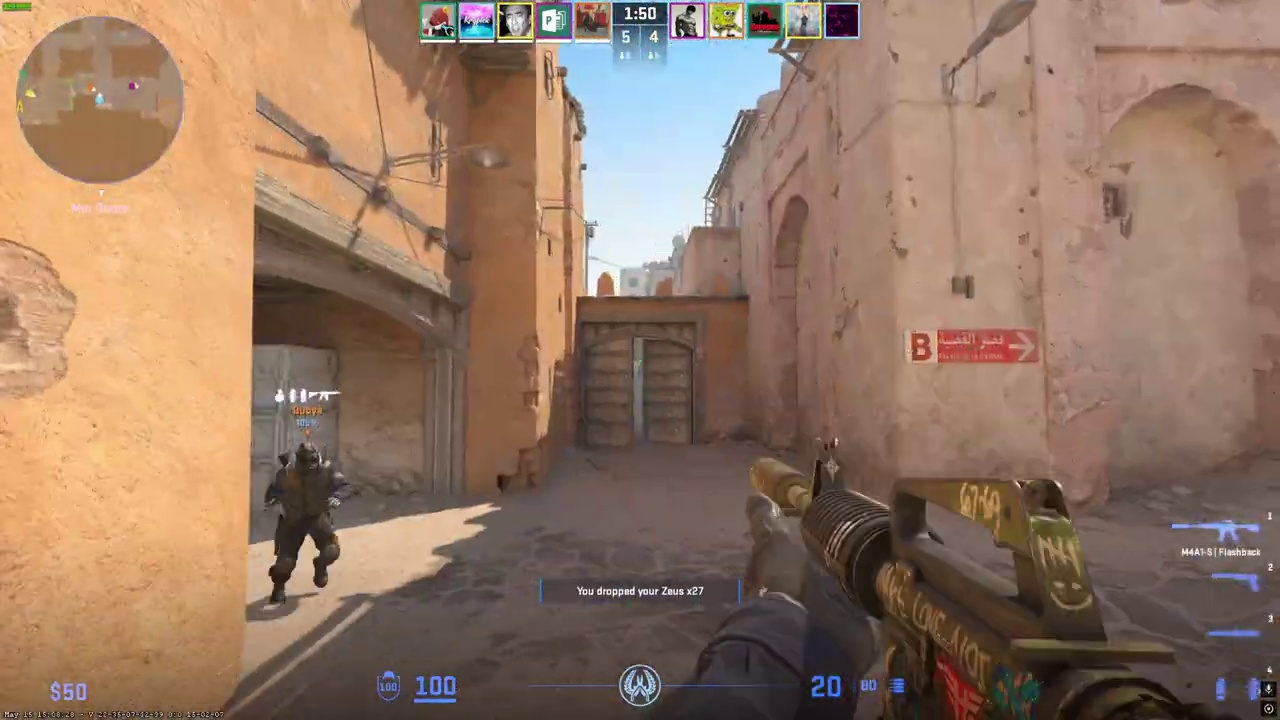CT: (264, 442, 348, 606)
